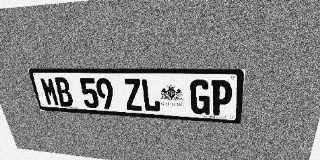5: (79, 78, 100, 108)
9: (95, 78, 116, 109)
B: (53, 77, 74, 107)
G: (190, 79, 211, 115)
L: (141, 79, 161, 112)
M: (39, 77, 60, 106)
P: (210, 80, 233, 116)
Z: (123, 78, 143, 111)
